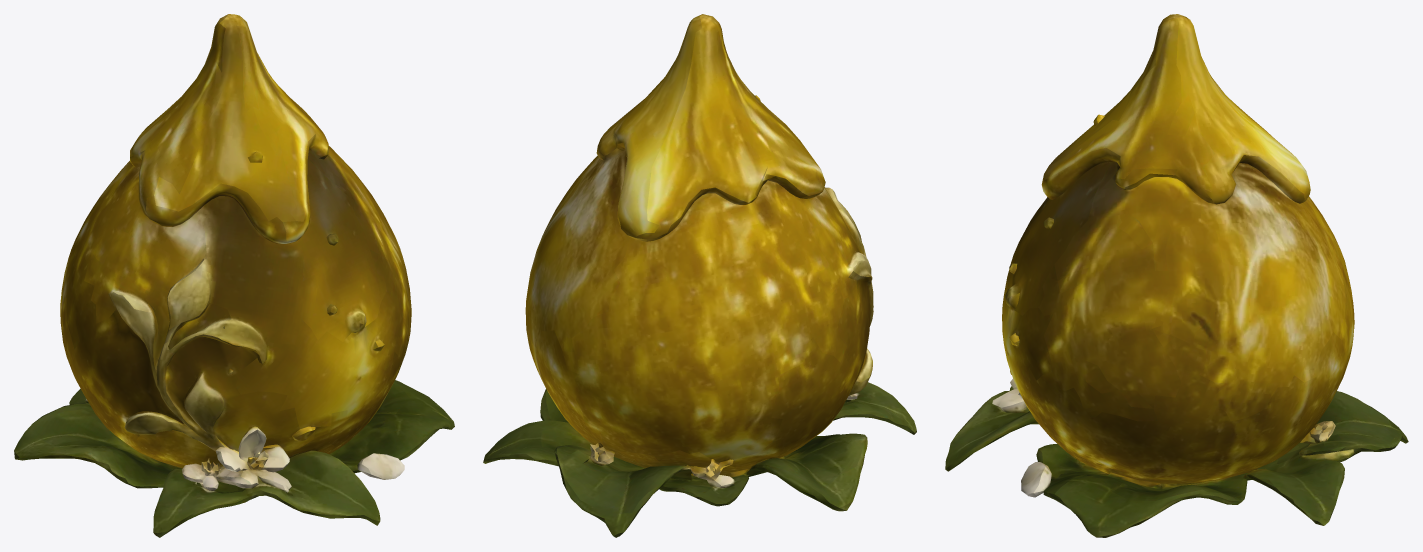
Rendered from drop-honey.glb.
3 renders of one model, left to right at view 1: azimuth 30°, elevation 25°; view 2: azimuth 150°, elevation 25°; view 3: azimuth 270°, elevation 25°, orthographic.
Parts seen in each view (by area): view 1: geometry_0; view 2: geometry_0; view 3: geometry_0.
Part boxes in pixels (x1,y1,x2,y2): geometry_0: [14, 14, 454, 537]; geometry_0: [483, 14, 916, 537]; geometry_0: [945, 14, 1408, 537].
Size of the model in its own units: 0.1321 by 0.15 by 0.1431.
1 material, 1 textured.
